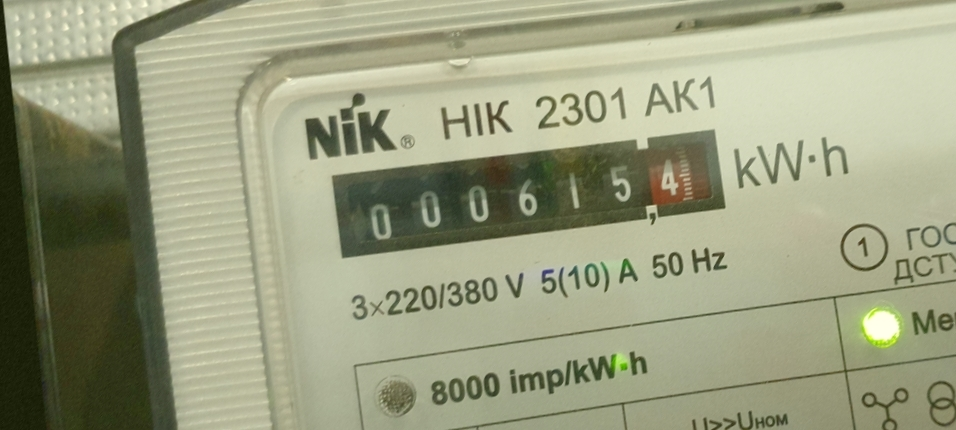0: (366, 199, 395, 243), (464, 182, 493, 226), (417, 188, 444, 230)
1: (566, 169, 583, 212)
4: (657, 156, 680, 198)
5: (608, 162, 635, 206)
6: (513, 176, 541, 219)
screen: (316, 117, 741, 272)
